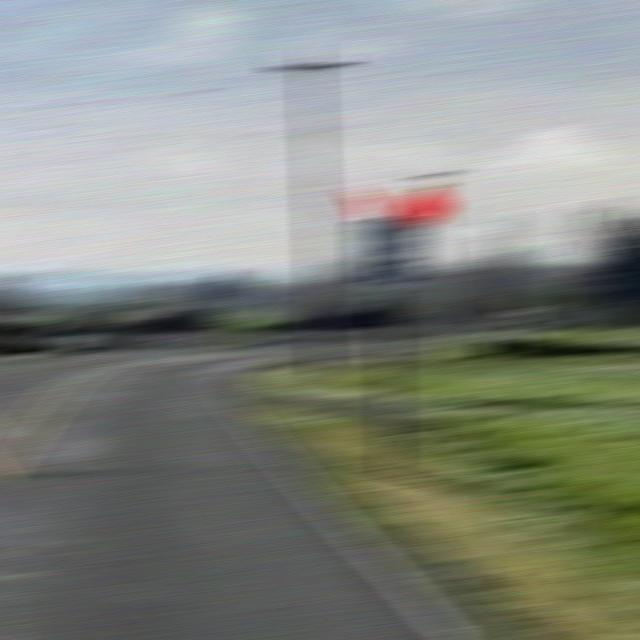speedLimit45: (358, 210, 428, 299)
